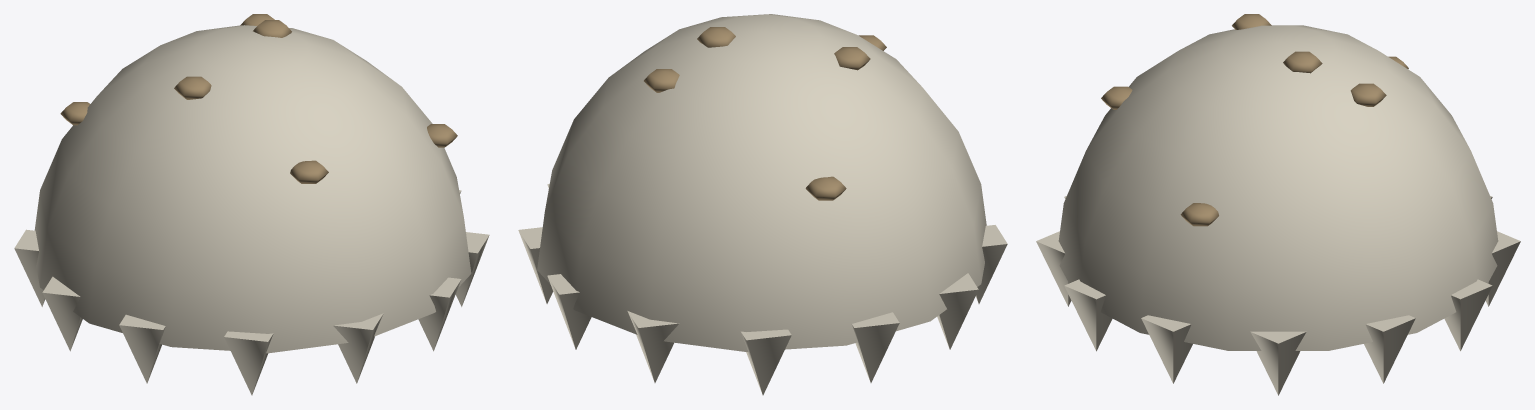
File: hat_eggshell.glb
The picture shows the model from 3 angles, left to right: view 1: azimuth 30°, elevation 25°; view 2: azimuth 150°, elevation 25°; view 3: azimuth 270°, elevation 25°; orthographic projection. The views are drawn at different scales.
Visible parts, largest first — view 1: Hat; view 2: Hat; view 3: Hat.
Part boxes in pixels (x1,y1,x2,y2): Hat: (14, 14, 489, 395); Hat: (518, 14, 1007, 395); Hat: (1036, 14, 1520, 395).
Size of the model in its own units: 0.72 by 0.4399 by 0.72.
